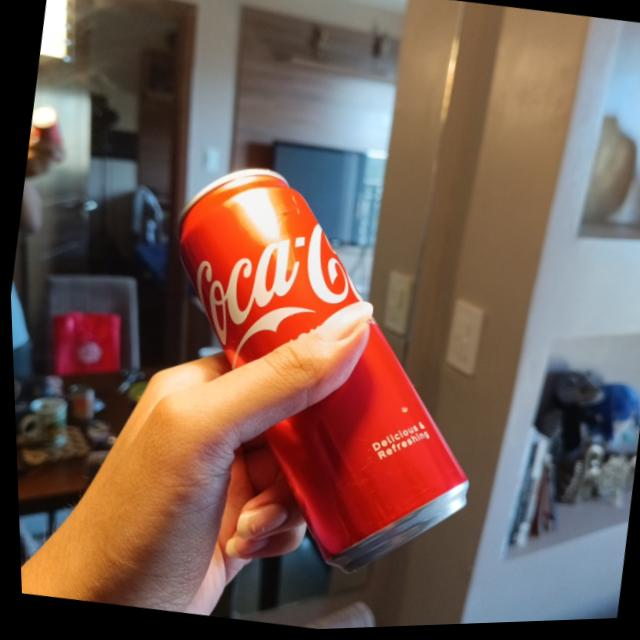coke: (128, 153, 513, 596)
